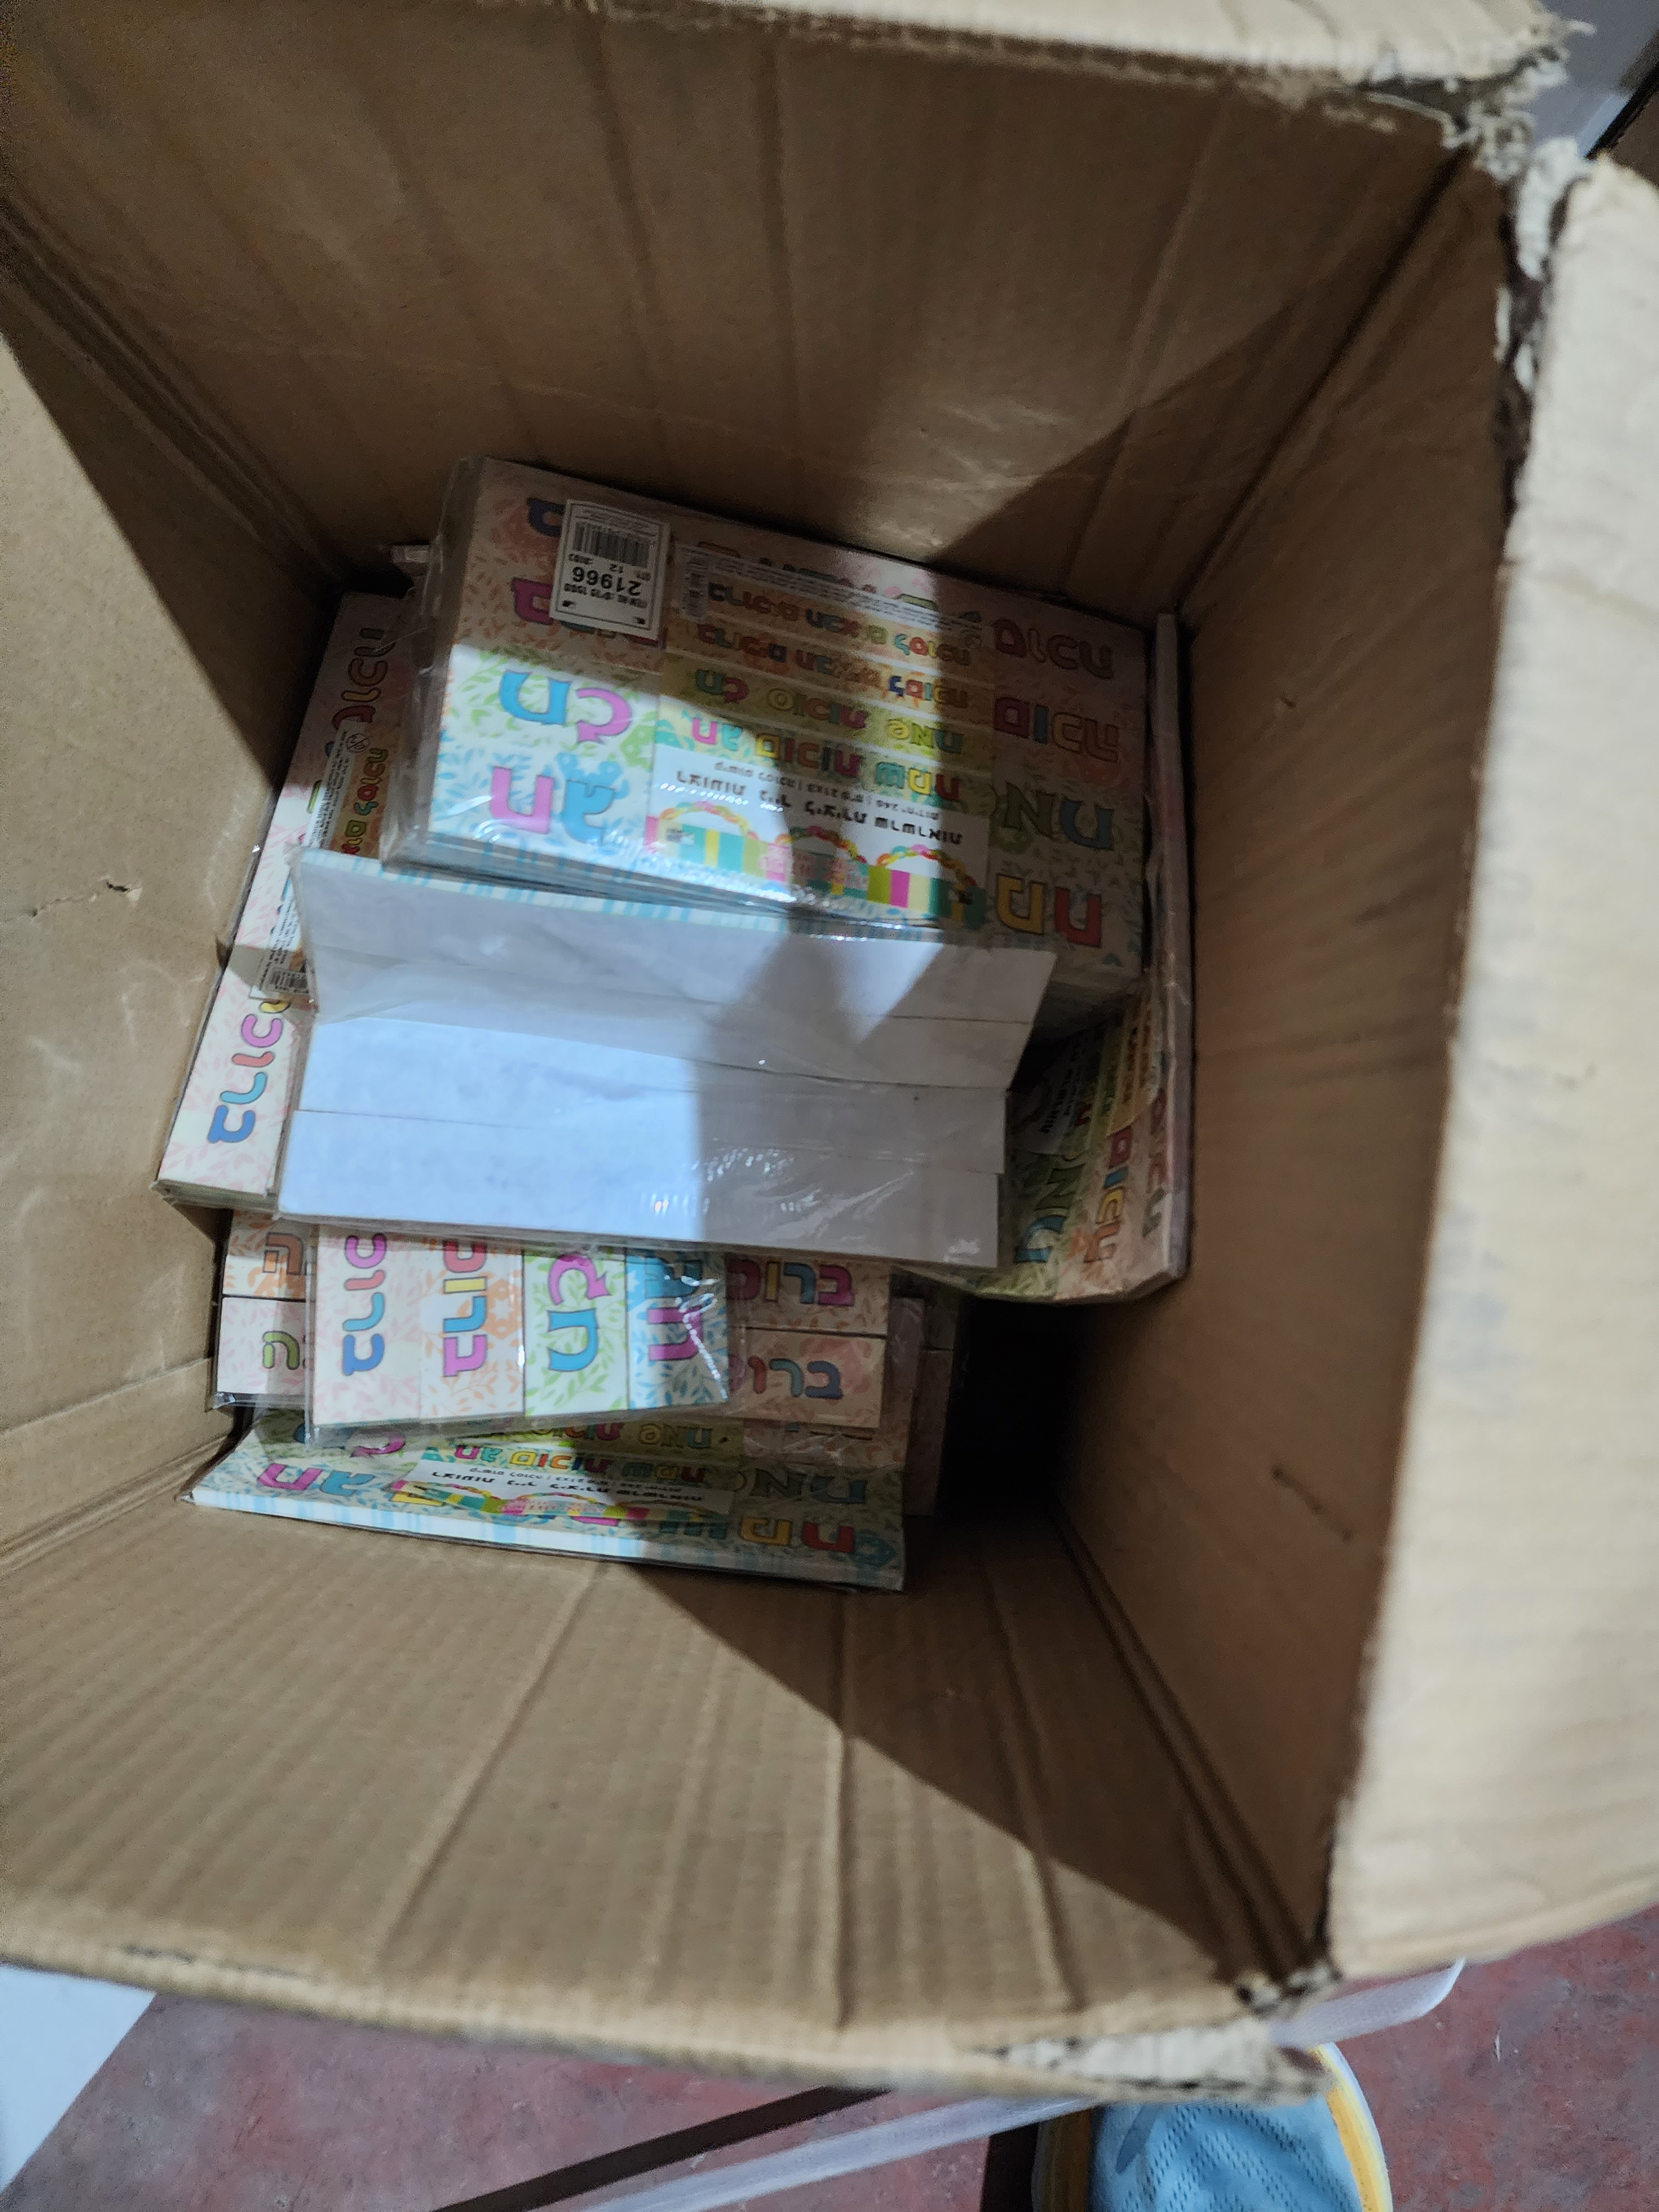other: (404, 380, 1173, 986), (227, 803, 1140, 1308)
